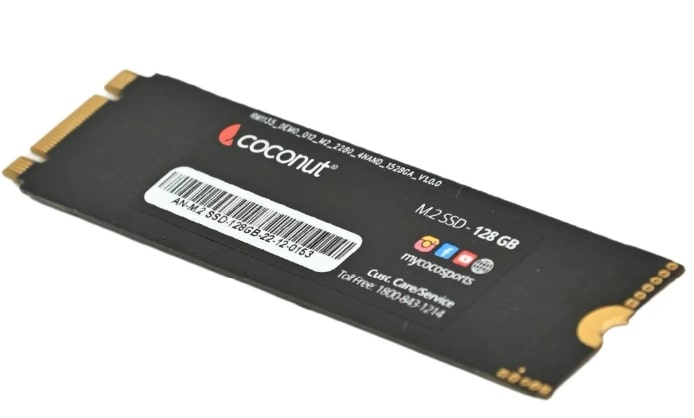ssd2280: (3, 61, 685, 403)
